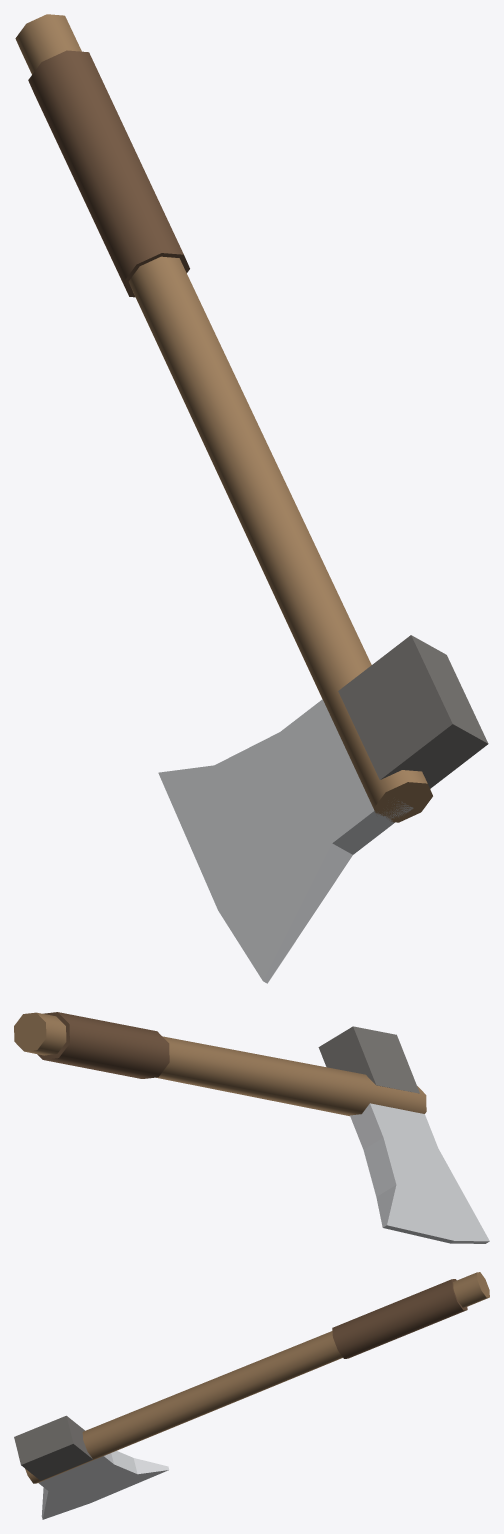
The model's file is wpn_battleaxe.glb.
The picture shows the model from 3 angles, top to bottom: view 1: azimuth 30°, elevation 25°; view 2: azimuth 150°, elevation 25°; view 3: azimuth 270°, elevation 25°; orthographic projection. The views are drawn at different scales.
Parts seen in each view (by area): view 1: wpn_battleaxe; view 2: wpn_battleaxe; view 3: wpn_battleaxe.
Boxes of the visible parts, x1,y1,x2,y2 form: wpn_battleaxe: (15,14,488,983); wpn_battleaxe: (14,1012,489,1243); wpn_battleaxe: (14,1272,489,1519).
Size of the model in its own units: 0.1064 by 0.246 by 0.3541.
